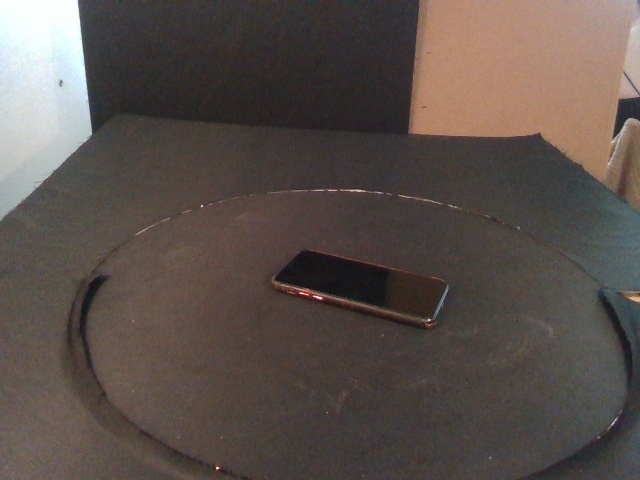phone: (270, 249, 451, 332)
